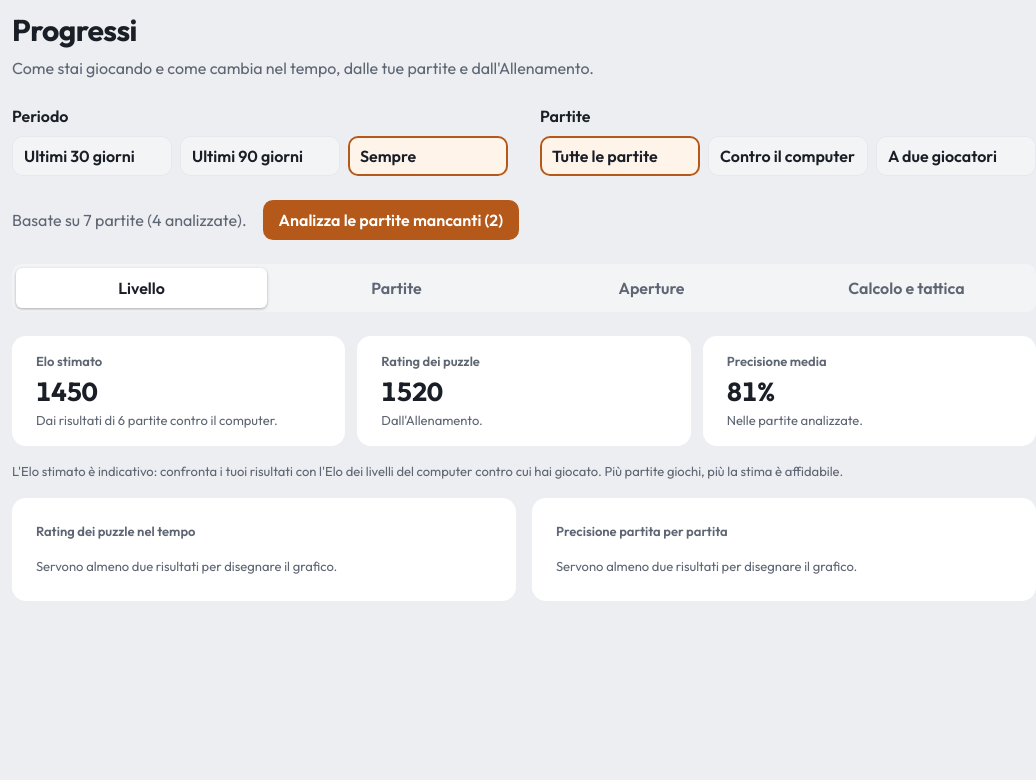
Test: ProgressPage › mette in coda le partite da analizzare e mostra l’avanzamento
This screenshot has width=1036, height=780.
Click the button "Analizza le partite mancanti (2)" at [391, 220], box [263, 200, 519, 240]
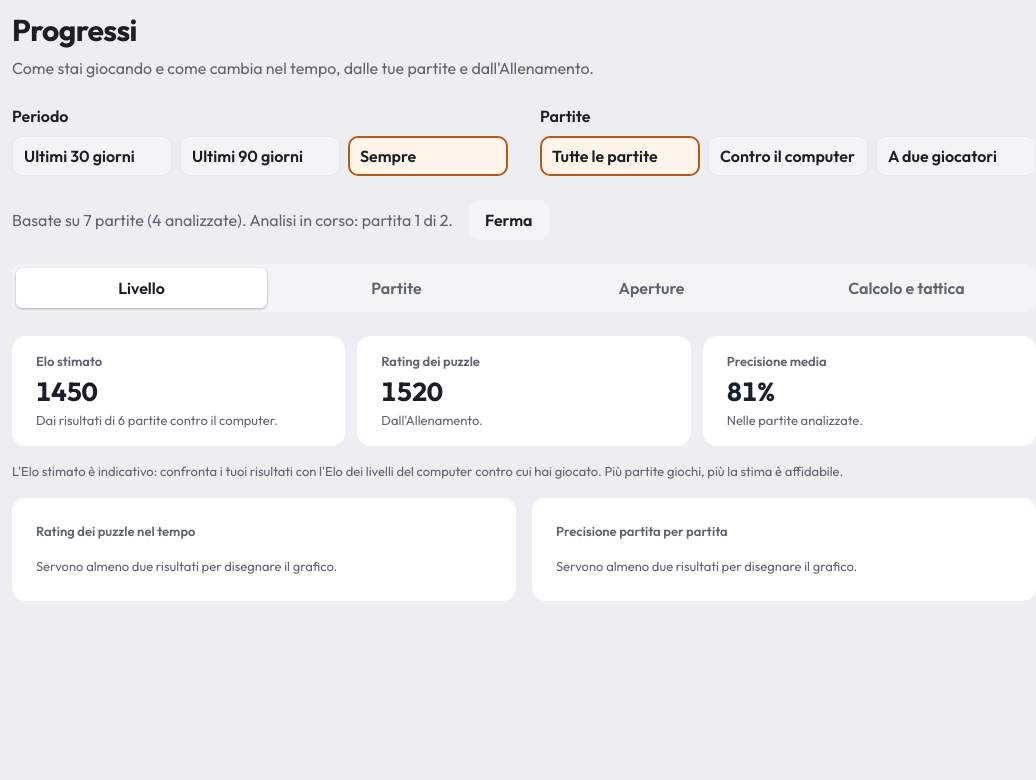
Check: the text "Analisi in corso: partita 1 di 2" is shown, box [247, 210, 453, 230]
Check: the button "Ferma" is shown, box [469, 200, 549, 240]
